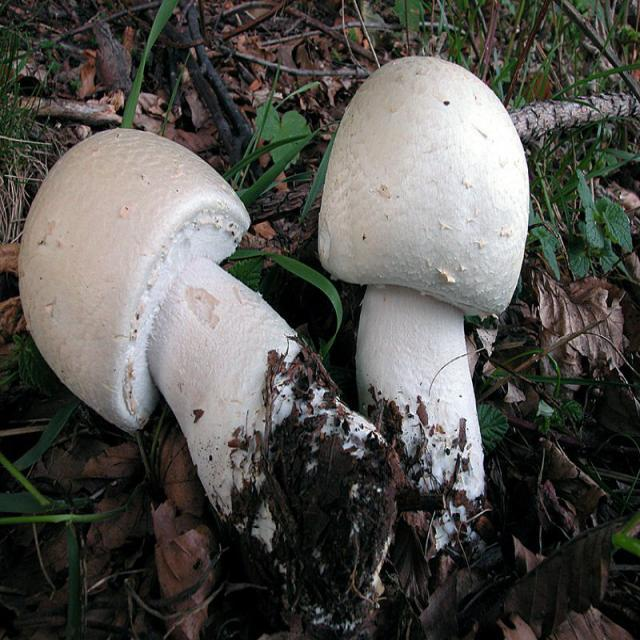Agaricus bisporus: (18, 130, 398, 621), (318, 52, 523, 539)
